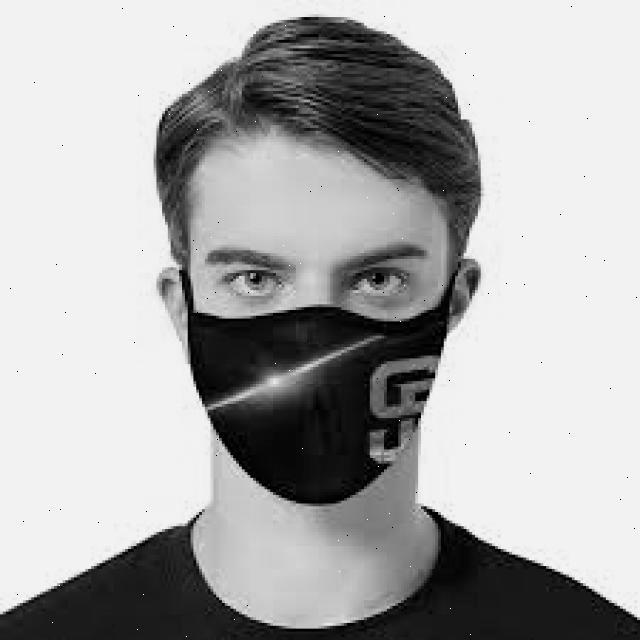fake: (171, 283, 452, 521)
real: (186, 128, 450, 517)
